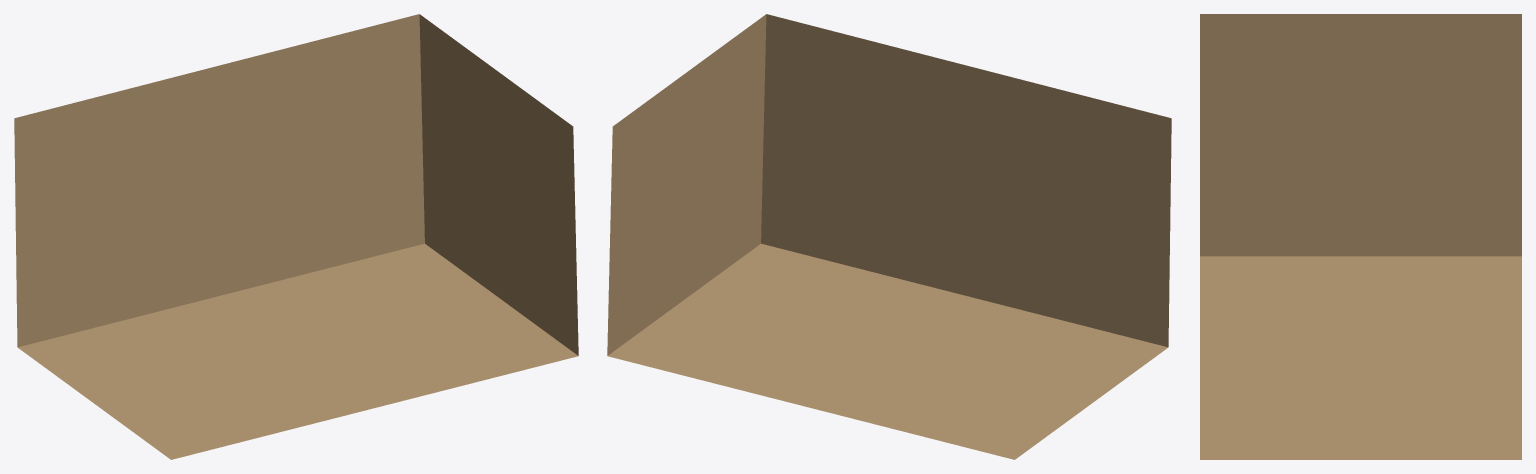
3 renders of one model, left to right at view 1: azimuth 30°, elevation 25°; view 2: azimuth 150°, elevation 25°; view 3: azimuth 270°, elevation 25°, orthographic. The views are drawn at different scales.
Visible parts, largest first — view 1: 0_0_2_0_1_0; view 2: 0_0_2_0_1_0; view 3: 0_0_2_0_1_0.
Boxes of the visible parts, x1,y1,x2,y2 form: 0_0_2_0_1_0: [14, 14, 578, 459]; 0_0_2_0_1_0: [607, 14, 1171, 459]; 0_0_2_0_1_0: [1200, 14, 1521, 459].
Bounding box in the file's own units: 32.38 × 17.73 × 21.
